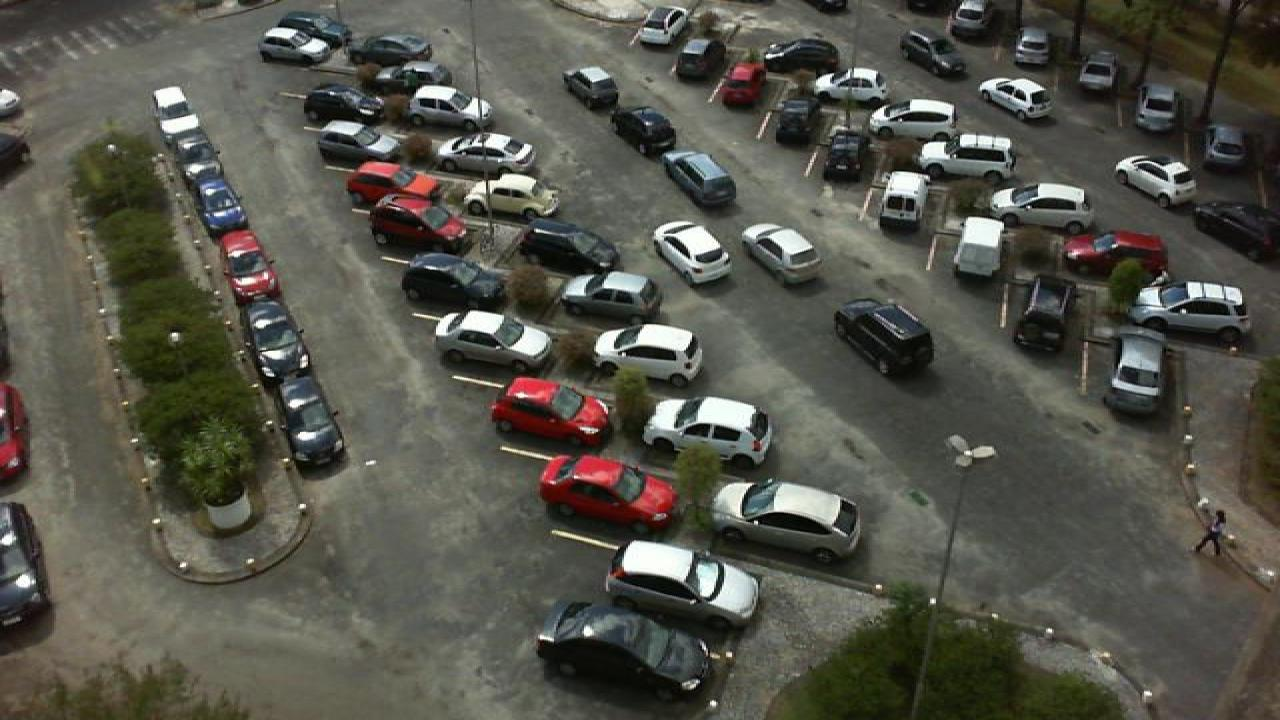Car: (534, 598, 720, 701), (602, 539, 762, 631), (710, 479, 862, 565), (538, 452, 678, 534), (642, 396, 774, 470), (488, 374, 610, 446), (832, 297, 936, 381), (1126, 280, 1250, 346), (432, 308, 556, 372), (592, 323, 704, 388), (366, 192, 470, 255), (518, 217, 624, 278), (276, 372, 342, 466), (398, 252, 508, 307), (560, 271, 664, 325), (1100, 332, 1166, 417), (650, 220, 734, 286), (988, 182, 1096, 233), (1192, 199, 1280, 261), (1064, 230, 1170, 280), (1012, 274, 1078, 354), (738, 224, 822, 284), (246, 299, 308, 378), (920, 133, 1016, 181), (346, 160, 444, 207), (436, 132, 536, 178), (1114, 155, 1198, 208), (464, 175, 560, 221), (216, 229, 276, 302), (662, 151, 738, 206), (316, 120, 406, 166), (406, 84, 492, 130), (868, 98, 960, 140), (952, 215, 1008, 283), (300, 84, 392, 125), (876, 171, 930, 236), (976, 77, 1052, 121), (166, 127, 228, 180), (812, 66, 890, 108), (610, 107, 678, 153), (898, 30, 966, 76), (258, 26, 336, 66), (760, 36, 842, 73), (196, 178, 250, 233), (150, 86, 208, 136), (268, 11, 350, 45), (1200, 124, 1256, 172), (562, 65, 620, 109), (824, 127, 868, 185), (356, 33, 432, 66), (1132, 82, 1180, 132), (636, 5, 690, 48), (720, 63, 770, 109), (774, 96, 818, 148), (674, 36, 722, 83), (948, 0, 992, 39), (1078, 49, 1116, 93), (1014, 27, 1050, 67)
